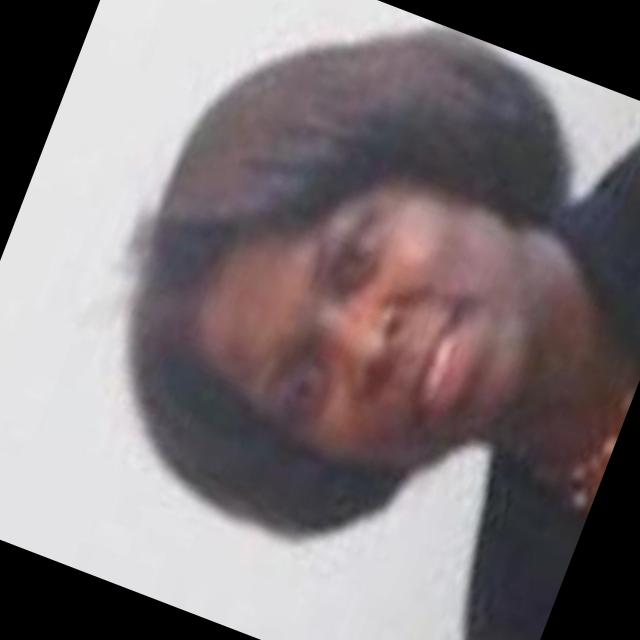bareface: (75, 14, 587, 520)
